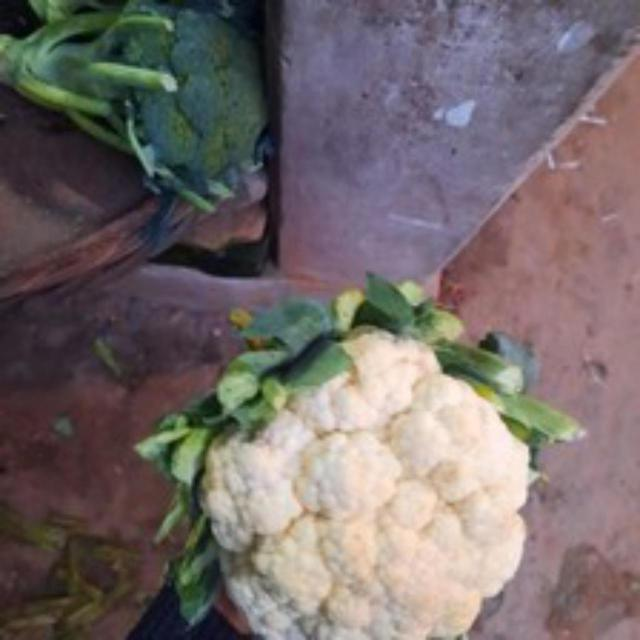cauliflower: (174, 314, 543, 637)
